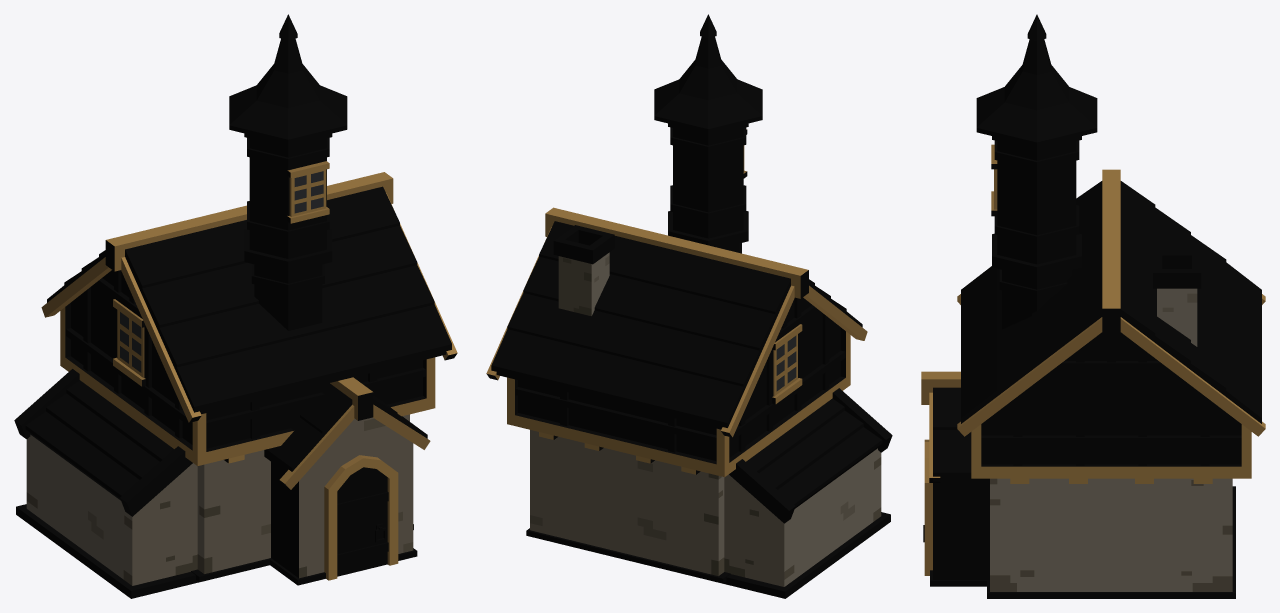
File: House_Blue_02.gltf
3 renders of one model, left to right at view 1: azimuth 30°, elevation 25°; view 2: azimuth 150°, elevation 25°; view 3: azimuth 270°, elevation 25°, orthographic. The views are drawn at different scales.
Visible parts, largest first — view 1: SF_Bld_House_Blue_02; view 2: SF_Bld_House_Blue_02; view 3: SF_Bld_House_Blue_02.
Boxes of the visible parts, x1,y1,x2,y2 form: SF_Bld_House_Blue_02: (14, 14, 457, 598); SF_Bld_House_Blue_02: (486, 14, 892, 598); SF_Bld_House_Blue_02: (921, 14, 1265, 598).
Bounding box in the file's own units: 0.1212 × 0.1913 × 0.1111.
1 material, 1 textured.
